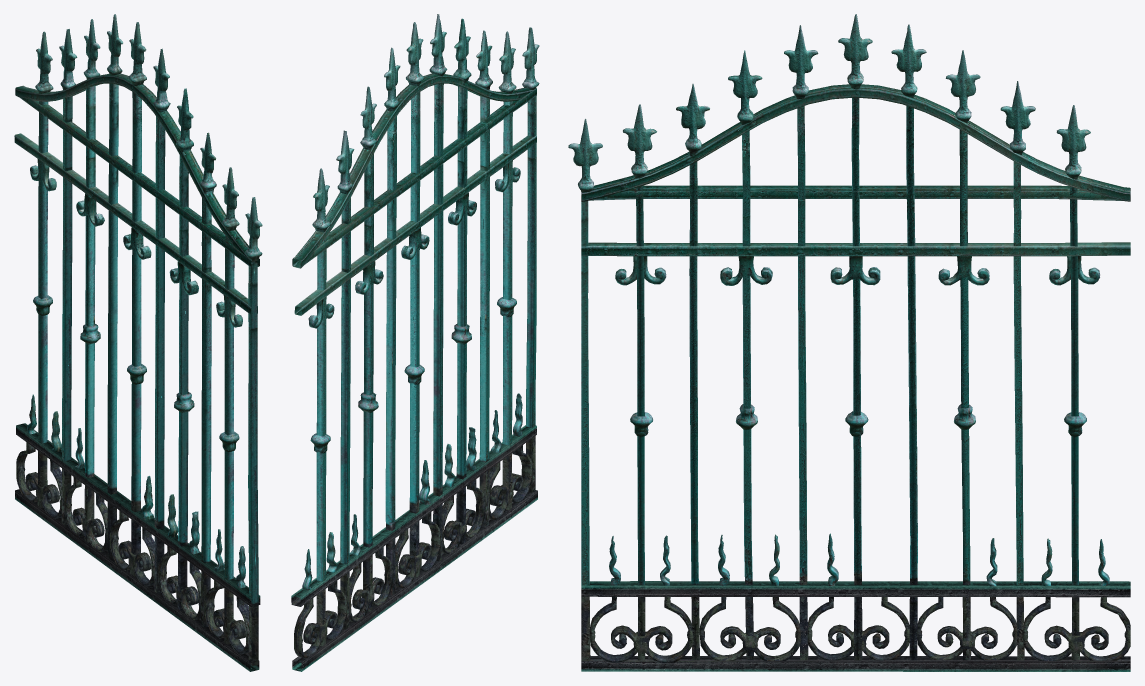
Rendered from sm_OldFence_02_03.fbx.
3 renders of one model, left to right at view 1: azimuth 30°, elevation 25°; view 2: azimuth 150°, elevation 25°; view 3: azimuth 270°, elevation 25°, orthographic. The views are drawn at different scales.
Visible parts, largest first — view 1: sm_OldFence_02_03_LOD0; view 2: sm_OldFence_02_03_LOD0; view 3: sm_OldFence_02_03_LOD0.
Boxes of the visible parts, <box> form: sm_OldFence_02_03_LOD0: <box>14,14,262,671</box>; sm_OldFence_02_03_LOD0: <box>291,14,539,671</box>; sm_OldFence_02_03_LOD0: <box>568,14,1130,671</box>.
Bounding box in the file's own units: 7.98 × 184 × 237.
